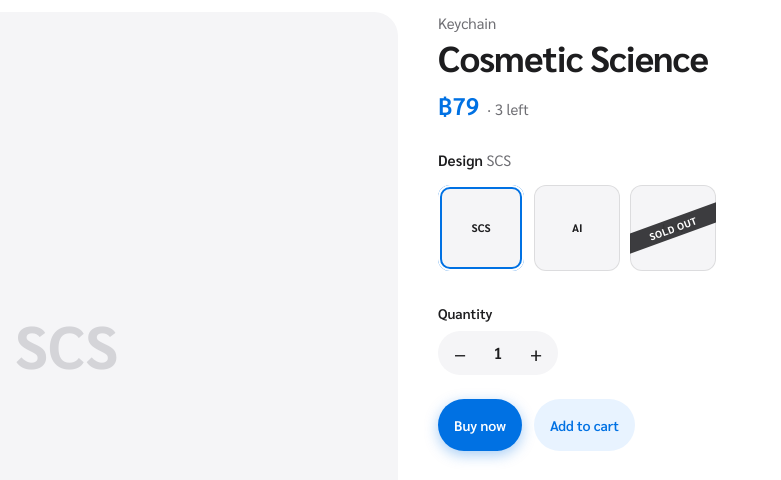
ProductDetail design picker › puts the chosen design in the URL without scrolling
The image size is (781, 480).
Click the radio button labelled "AI" at [577, 228], box [534,185,620,271]
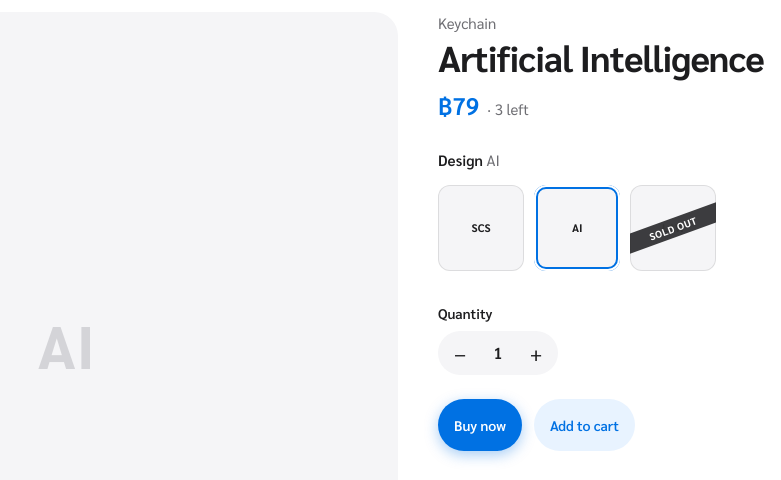
Result: the heading "Artificial Intelligence" is shown at [438,34,764,80]
